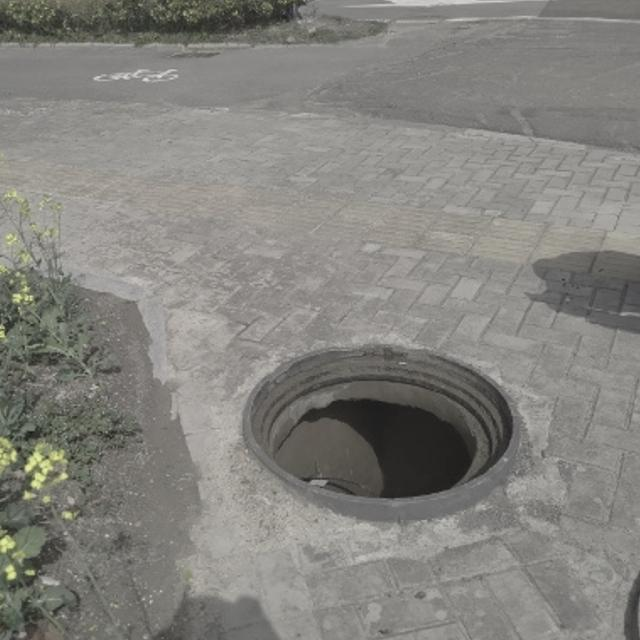lose: (244, 344, 522, 523)
